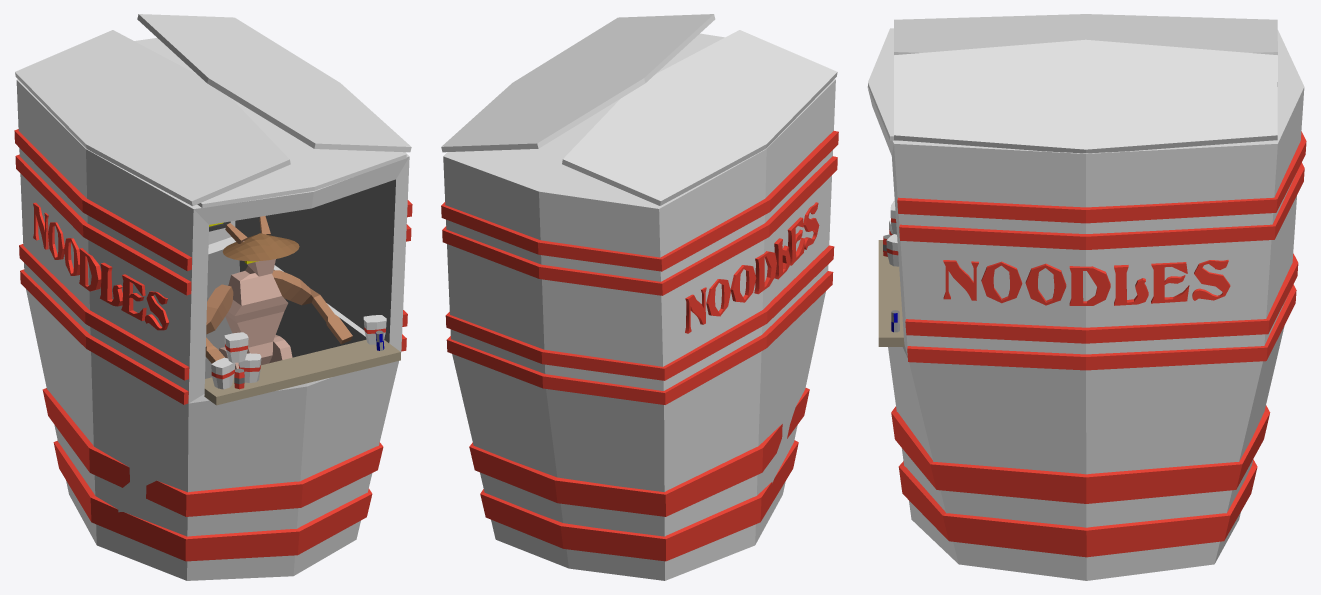
The model's file is short02.fbx.
3 renders of one model, left to right at view 1: azimuth 30°, elevation 25°; view 2: azimuth 150°, elevation 25°; view 3: azimuth 270°, elevation 25°, orthographic. The views are drawn at different scales.
Visible parts, largest first — view 1: baseMini1, baseMini5, baseMini3, baseMini2, baseMini4, pCube82, pasted__polySurface298, typeMesh2, pasted__polySurface299, pasted__pasted__pDisc4, pasted__polySurface297, baseMini8 (+3 smaller); view 2: baseMini1, baseMini5, baseMini3, baseMini2, typeMesh2, baseMini4; view 3: baseMini1, baseMini5, baseMini2, baseMini3, typeMesh1, pCube82, baseMini4.
Boxes of the visible parts, <box> form: baseMini1: <box>16,38,409,580</box>; baseMini5: <box>14,129,412,561</box>; baseMini3: <box>15,30,290,206</box>; baseMini2: <box>137,14,411,152</box>; baseMini4: <box>197,123,406,207</box>; pCube82: <box>204,339,400,405</box>; pasted__polySurface298: <box>219,241,292,369</box>; typeMesh2: <box>33,202,169,330</box>; pasted__polySurface299: <box>272,270,352,344</box>; pasted__pasted__pDisc4: <box>222,233,299,261</box>; pasted__polySurface297: <box>205,284,233,363</box>; baseMini8: <box>224,332,248,362</box>; baseMini1: <box>443,79,835,580</box>; baseMini5: <box>441,131,838,561</box>; baseMini3: <box>562,30,837,205</box>; baseMini2: <box>441,14,715,152</box>; typeMesh2: <box>685,202,819,333</box>; baseMini4: <box>656,33,724,73</box>; baseMini1: <box>867,30,1304,580</box>; baseMini5: <box>891,131,1306,557</box>; baseMini2: <box>894,39,1277,153</box>; baseMini3: <box>894,14,1277,54</box>; typeMesh1: <box>943,260,1230,305</box>; pCube82: <box>878,240,904,346</box>; baseMini4: <box>868,28,898,140</box>.
Bounding box in the file's own units: 3.08 × 4.96 × 4.14.
